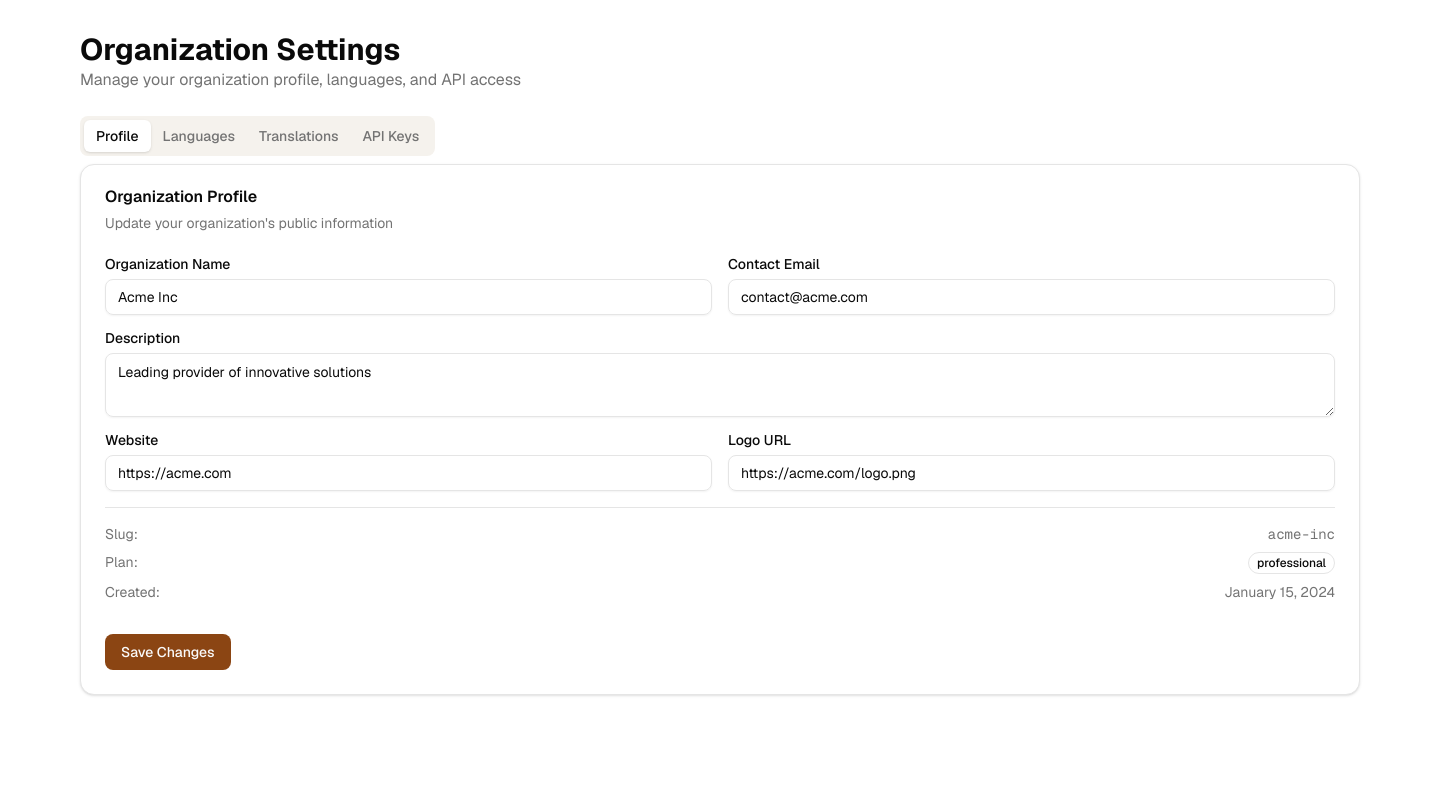
OrganizationSettingsPage › Languages Tab - Locale Listing › should switch to Languages tab
This screenshot has width=1440, height=810.
Click the tab "Languages": (199, 136) [150,120,247,152]
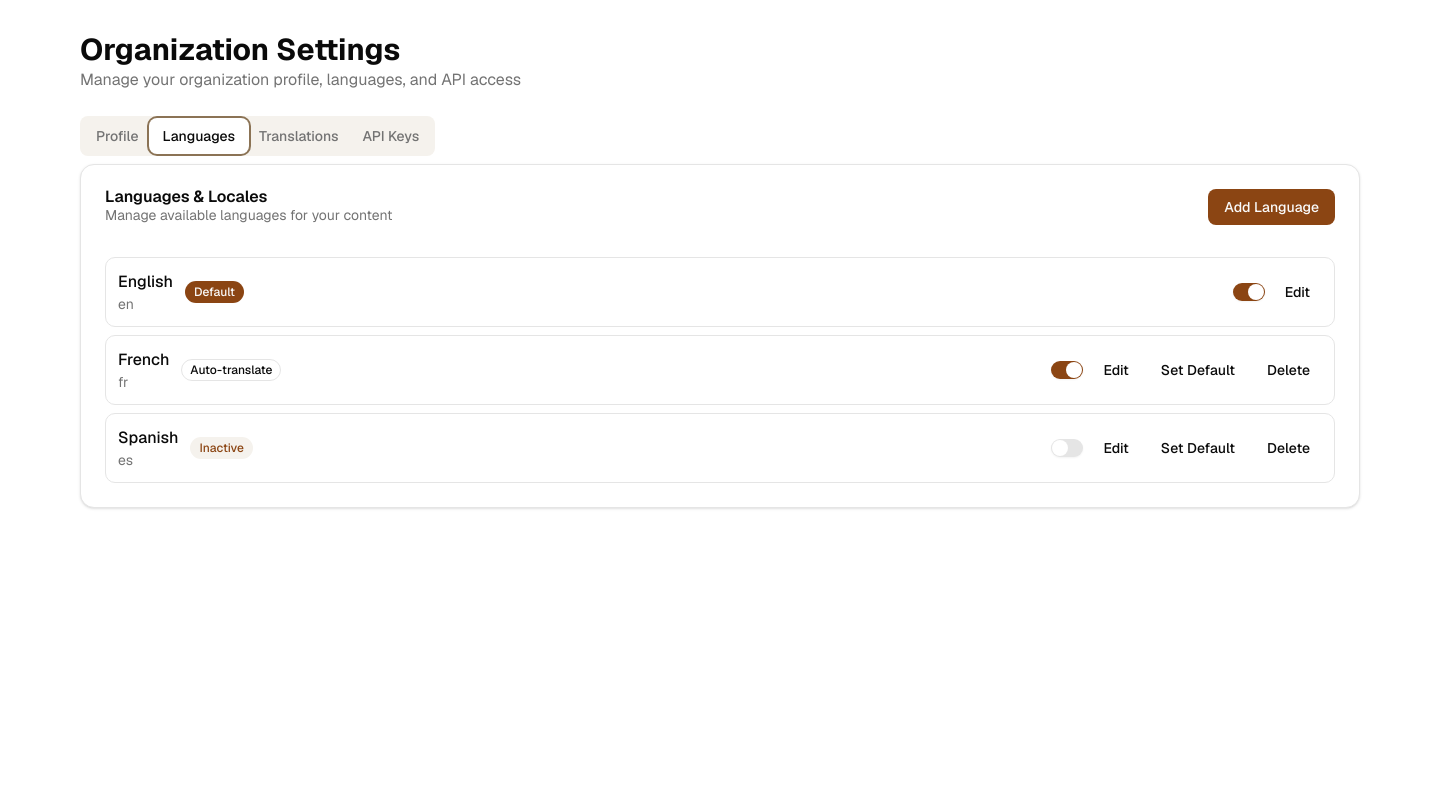
Now the text "Languages & Locales" is shown, box [105,186,267,207]
